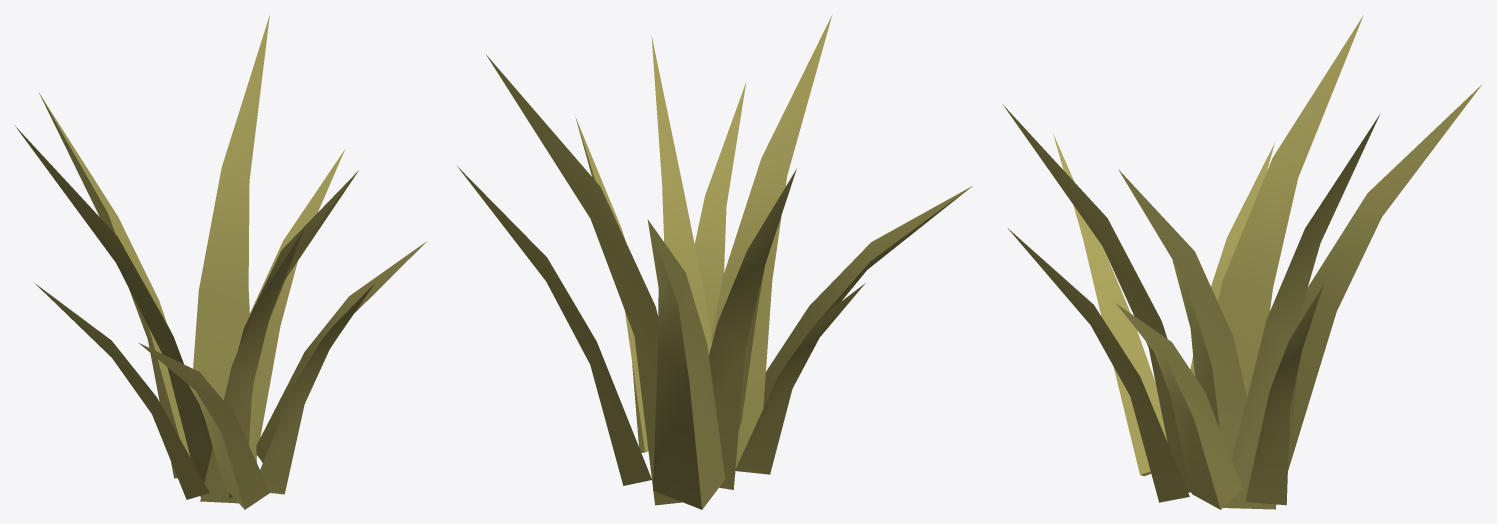
File: Grass2.fbx
3 views of the same model, side by side, from view 1: azimuth 30°, elevation 25°; view 2: azimuth 150°, elevation 25°; view 3: azimuth 270°, elevation 25° (orthographic). The views are drawn at different scales.
Parts seen in each view (by area): view 1: GrassB; view 2: GrassB; view 3: GrassB.
Part boxes in pixels (x1=…): GrassB: x1=14, y1=15, x2=426, y2=509; GrassB: x1=457, y1=14, x2=972, y2=509; GrassB: x1=1002, y1=15, x2=1482, y2=509.
Bounding box in the file's own units: 48.02 × 55.25 × 53.25.
